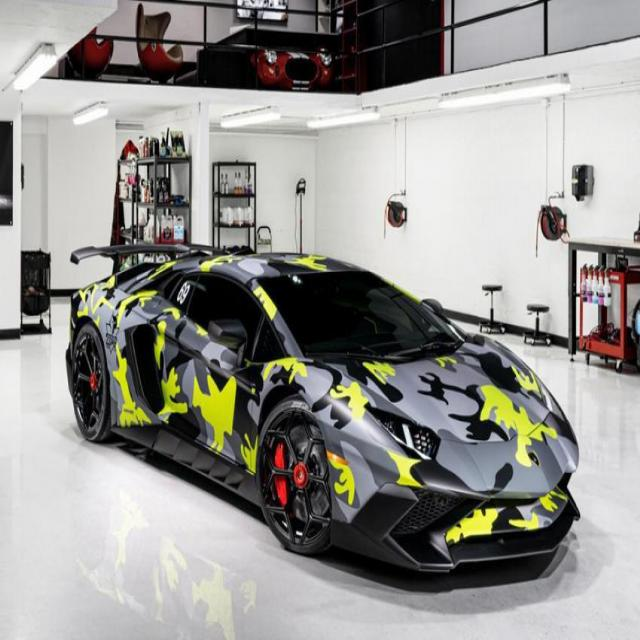front_bumper: (326, 393, 581, 571)
front_glass: (261, 268, 467, 360)
front_right_door: (149, 271, 278, 467)
front_right_light: (363, 406, 441, 460)
hood: (305, 334, 554, 443)
right_mirror: (208, 320, 247, 343)
wheel: (71, 330, 331, 558)
